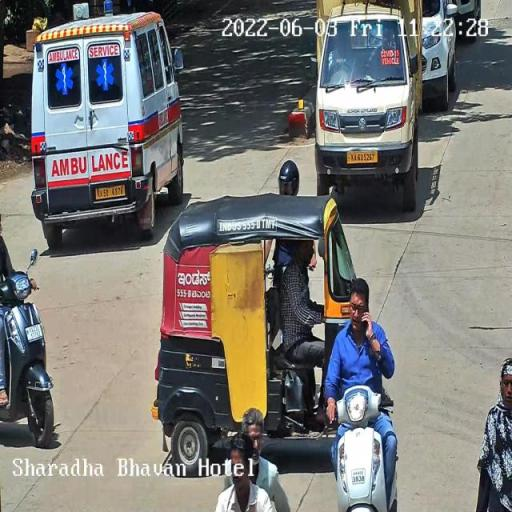using mobile: (362, 298, 371, 336)
